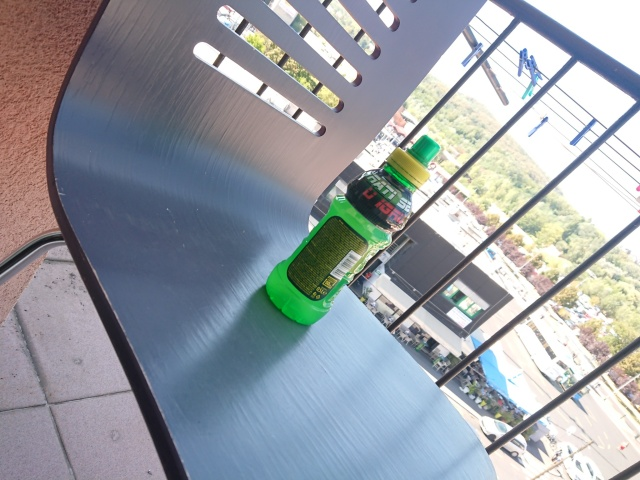Vindi Iso Sport Lemon-Grapefruit 500mL: (262, 133, 443, 329)
